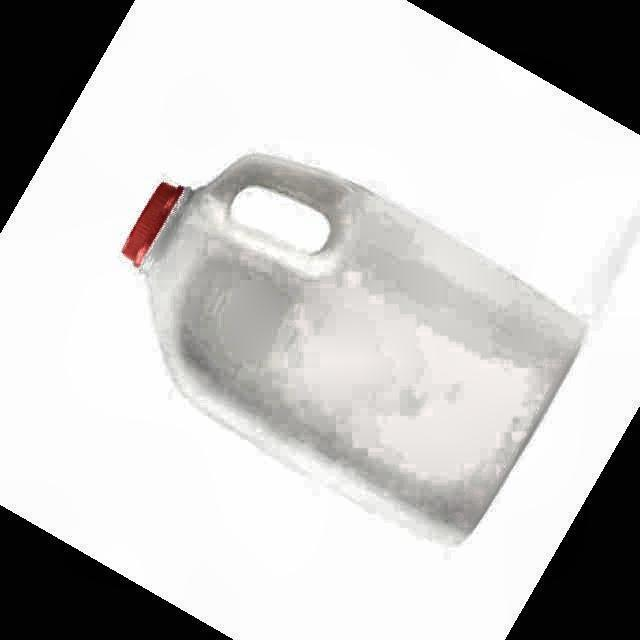plastic: (124, 155, 582, 541)
